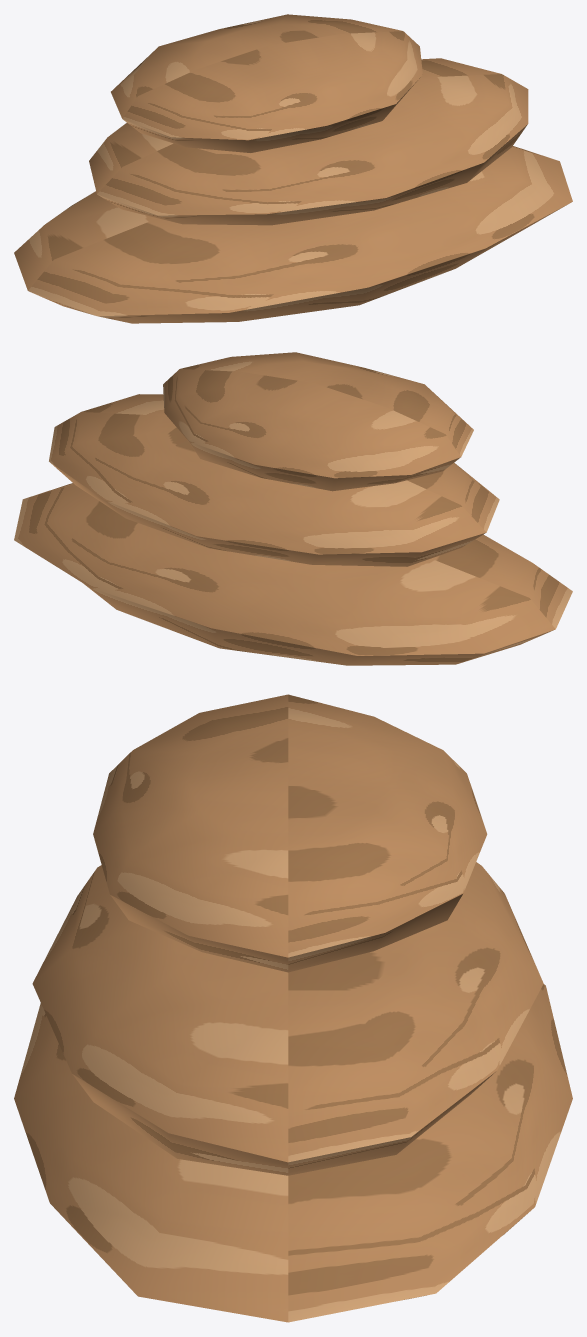
Rendered from env_qob_rock_a.glb.
3 views of the same model, one above another, from view 1: azimuth 30°, elevation 25°; view 2: azimuth 150°, elevation 25°; view 3: azimuth 270°, elevation 25° (orthographic). The views are drawn at different scales.
Parts seen in each view (by area): view 1: env_qob_rock_a; view 2: env_qob_rock_a; view 3: env_qob_rock_a.
Boxes of the visible parts, left/top/right/bottom form: env_qob_rock_a: left=14, top=14, right=572, bottom=323; env_qob_rock_a: left=14, top=352, right=572, bottom=665; env_qob_rock_a: left=14, top=694, right=572, bottom=1322.
Size of the model in its own units: 9.12 by 3.85 by 4.94.
1 material, 1 textured.
